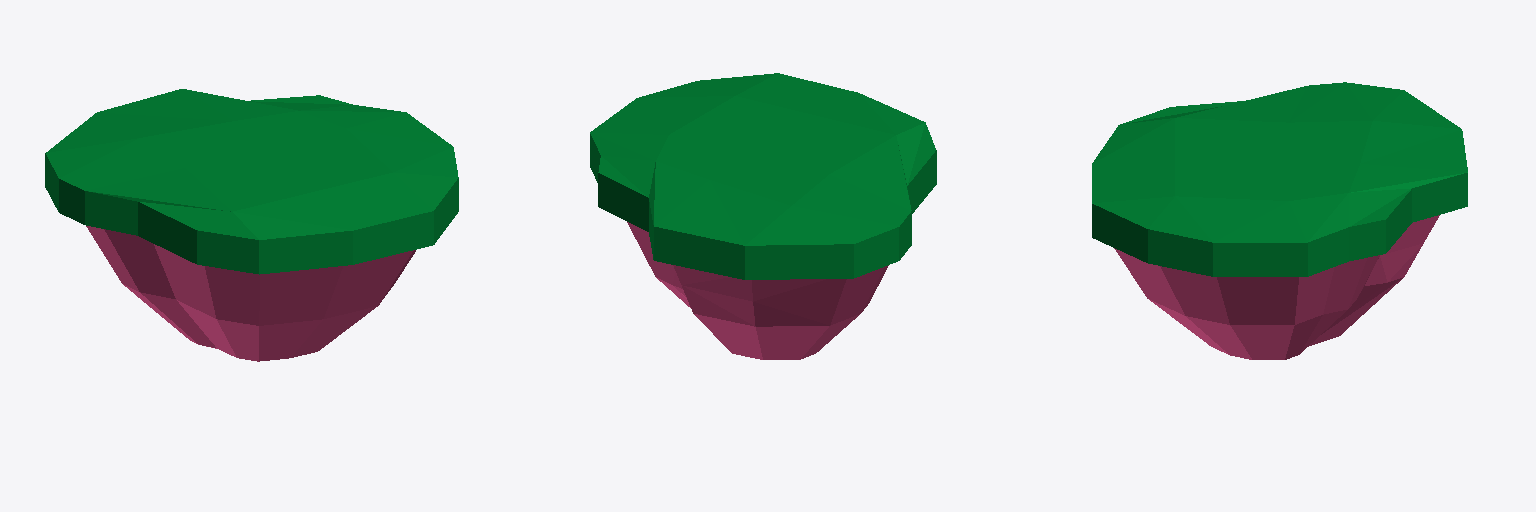
File: land1.obj
3 views of the same model, side by side, from view 1: azimuth 30°, elevation 25°; view 2: azimuth 150°, elevation 25°; view 3: azimuth 270°, elevation 25° (orthographic).
Visible parts, largest first — view 1: g1, land1; view 2: g1, land1; view 3: g1, land1.
Part boxes in pixels (x1,y1,x2,y2): g1: (45, 89, 458, 274); land1: (86, 226, 415, 361); g1: (590, 73, 936, 279); land1: (627, 222, 888, 359); g1: (1092, 82, 1467, 276); land1: (1114, 215, 1439, 359).
Bounding box in the file's own units: 71.09 × 41.79 × 70.53.